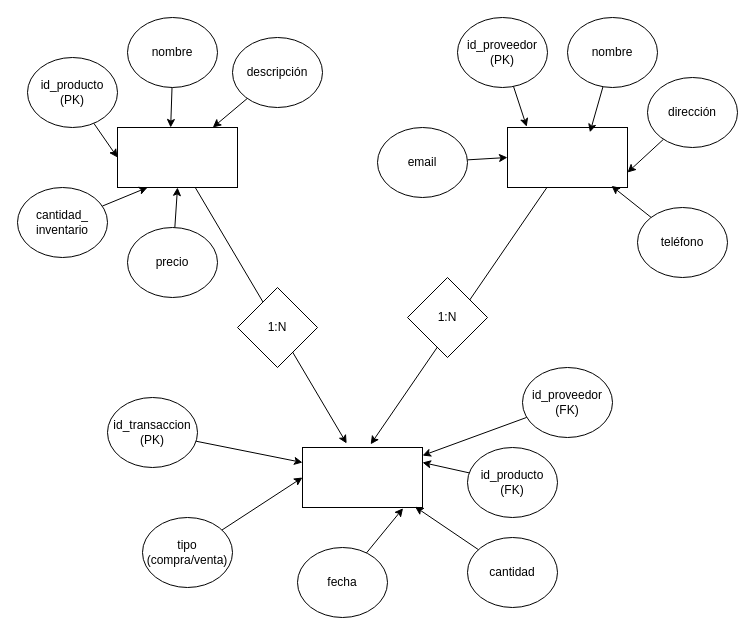
Image size: 755x635. Some labels were removed from this diagram. Here are the shapes that lost their labels. From the top down, the centre of each, then its label:
At (177,157): "productos".
At (567,157): "proveedores".
At (362,477): "transacciones".
